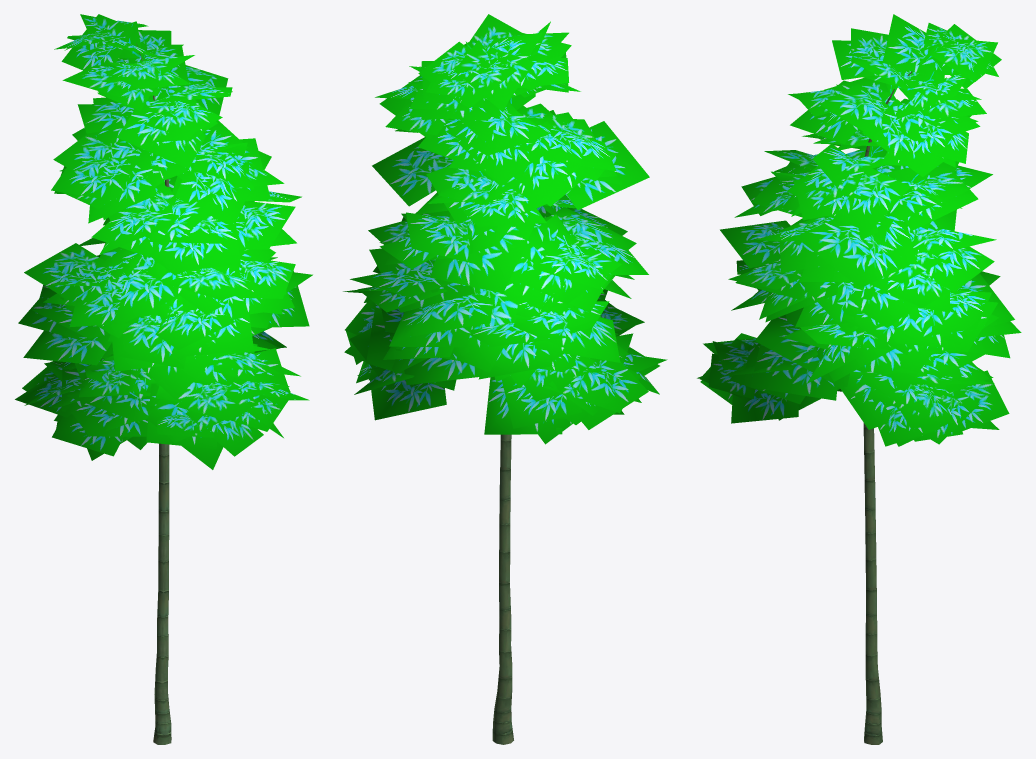
File: Homeworld_Exterior_Common_Plant_Tree_17_Lod0.fbx
The picture shows the model from 3 angles, left to right: view 1: azimuth 30°, elevation 25°; view 2: azimuth 150°, elevation 25°; view 3: azimuth 270°, elevation 25°; orthographic projection. The views are drawn at different scales.
Parts seen in each view (by area): view 1: Area_Ly_Tree_QC_Bamboo_01_Leaf_Lod0, Area_Ly_Tree_QC_Bamboo_01_Bark_Lod0; view 2: Area_Ly_Tree_QC_Bamboo_01_Leaf_Lod0, Area_Ly_Tree_QC_Bamboo_01_Bark_Lod0; view 3: Area_Ly_Tree_QC_Bamboo_01_Leaf_Lod0, Area_Ly_Tree_QC_Bamboo_01_Bark_Lod0.
Boxes of the visible parts, bbox=[...] form: Area_Ly_Tree_QC_Bamboo_01_Leaf_Lod0: bbox=[15, 14, 312, 469]; Area_Ly_Tree_QC_Bamboo_01_Bark_Lod0: bbox=[136, 43, 171, 744]; Area_Ly_Tree_QC_Bamboo_01_Leaf_Lod0: bbox=[343, 14, 667, 444]; Area_Ly_Tree_QC_Bamboo_01_Bark_Lod0: bbox=[492, 434, 513, 744]; Area_Ly_Tree_QC_Bamboo_01_Leaf_Lod0: bbox=[697, 14, 1021, 446]; Area_Ly_Tree_QC_Bamboo_01_Bark_Lod0: bbox=[863, 64, 919, 744].
Bounding box in the file's own units: 8.02 × 19.69 × 8.25.
